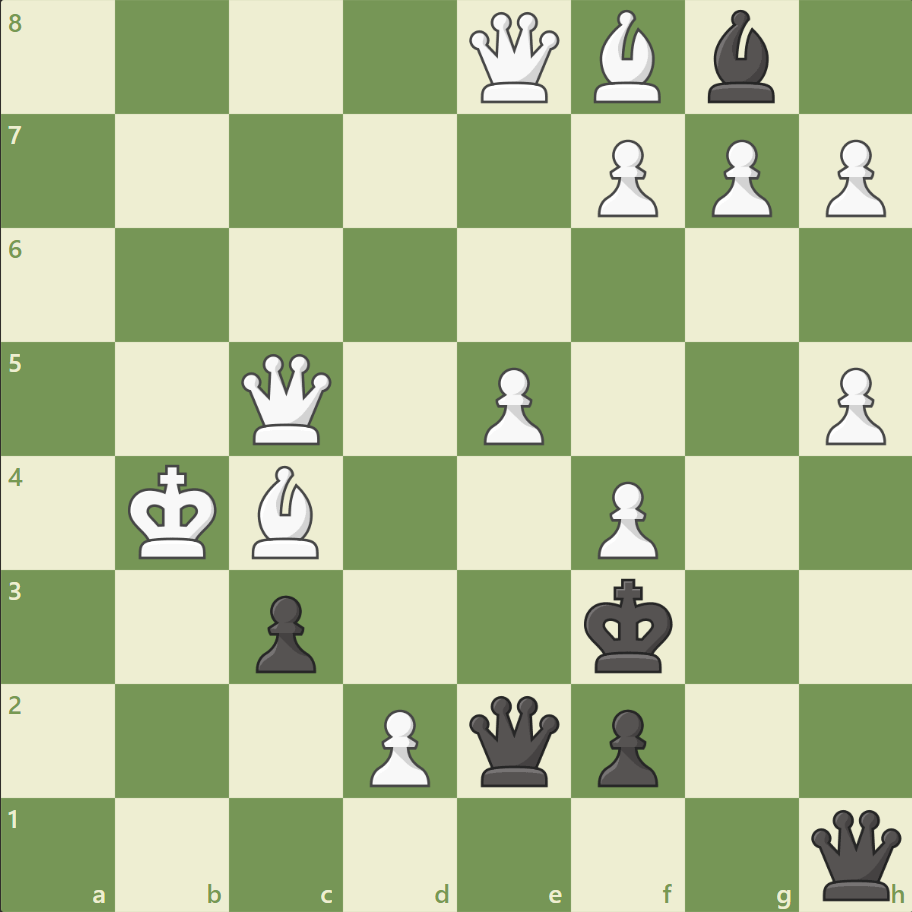B: (585, 6, 669, 109), (244, 460, 328, 563)
K: (124, 458, 224, 566)
P: (701, 132, 776, 223), (474, 359, 549, 450), (588, 132, 662, 223), (815, 132, 889, 223), (815, 359, 889, 450), (588, 473, 662, 564), (361, 700, 435, 791)
Q: (237, 349, 336, 449), (464, 9, 563, 108)
b: (698, 6, 782, 109)
k: (579, 571, 679, 679)
p: (247, 586, 322, 677), (588, 700, 662, 791)
q: (464, 690, 563, 789), (805, 804, 904, 903)
